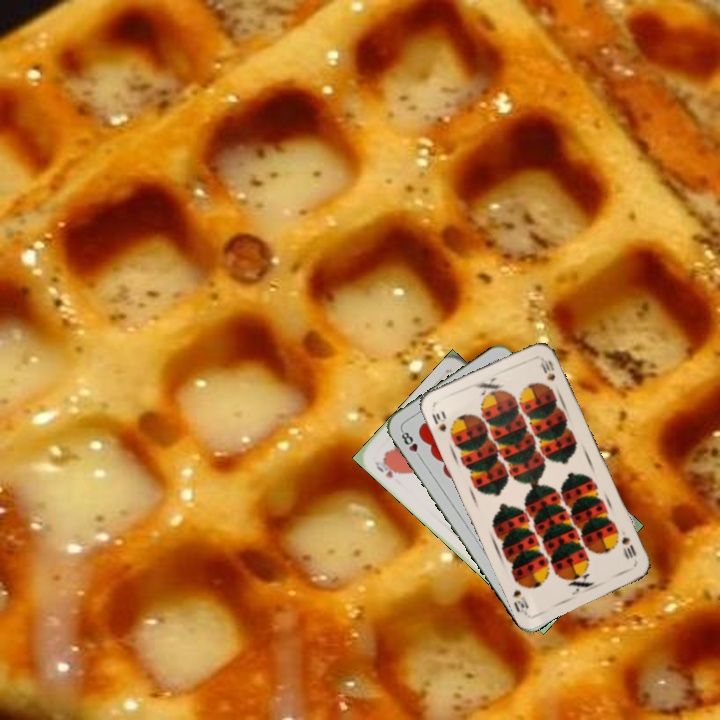H8: (397, 426, 424, 462)
HO: (370, 455, 403, 481)
S10: (617, 533, 639, 562), (427, 409, 449, 434)
